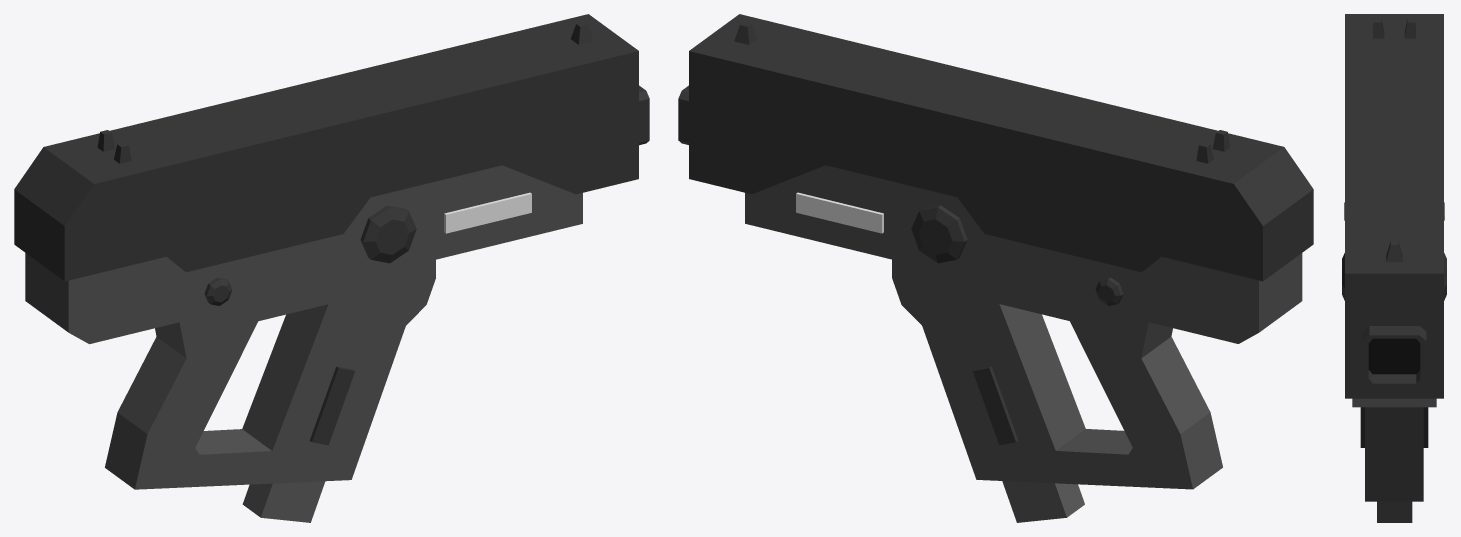
Rendered from Gun_Submachine_V1.FBX.
3 views of the same model, side by side, from view 1: azimuth 30°, elevation 25°; view 2: azimuth 150°, elevation 25°; view 3: azimuth 270°, elevation 25° (orthographic). The views are drawn at different scales.
Visible parts, largest first — view 1: Gun_Submachine_V1, Magazine; view 2: Gun_Submachine_V1, Magazine; view 3: Gun_Submachine_V1, Magazine.
Part boxes in pixels (bbox=[...]): Gun_Submachine_V1: bbox=[14, 14, 649, 489]; Magazine: bbox=[242, 481, 325, 522]; Gun_Submachine_V1: bbox=[678, 14, 1313, 489]; Magazine: bbox=[1002, 481, 1084, 522]; Gun_Submachine_V1: bbox=[1342, 14, 1446, 501]; Magazine: bbox=[1377, 501, 1412, 522].
Bounding box in the file's own units: 176 × 120 × 27.56.
